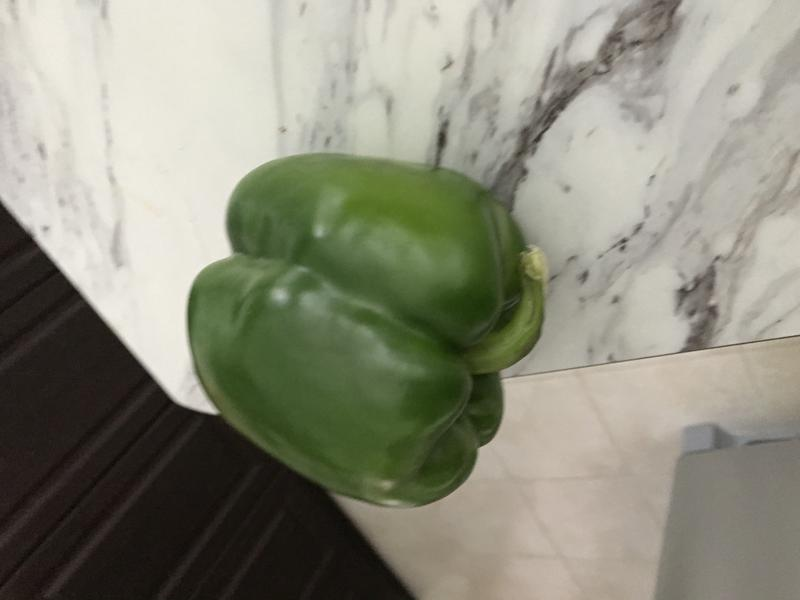green_pepper: (173, 144, 561, 537)
